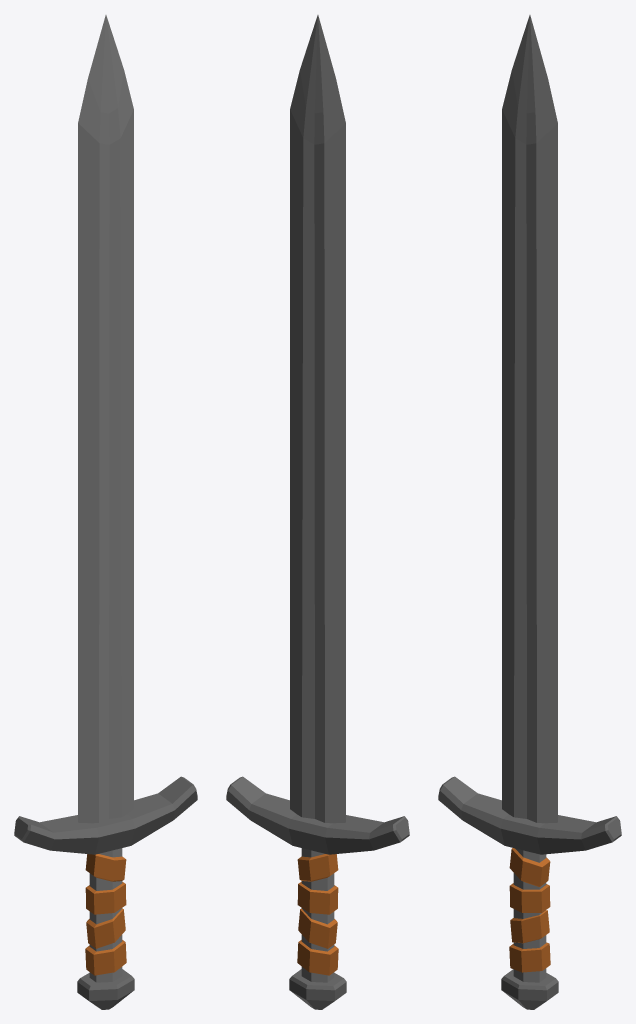
File: sword_6.fbx
3 views of the same model, side by side, from view 1: azimuth 30°, elevation 25°; view 2: azimuth 150°, elevation 25°; view 3: azimuth 330°, elevation 25° (orthographic).
Visible parts, largest first — view 1: Sword; view 2: Sword; view 3: Sword.
Boxes of the visible parts, x1,y1,x2,y2 form: Sword: [14, 15, 197, 1009]; Sword: [226, 15, 409, 1009]; Sword: [438, 15, 621, 1009].
Size of the model in its own units: 38.9 by 210 by 9.01.
